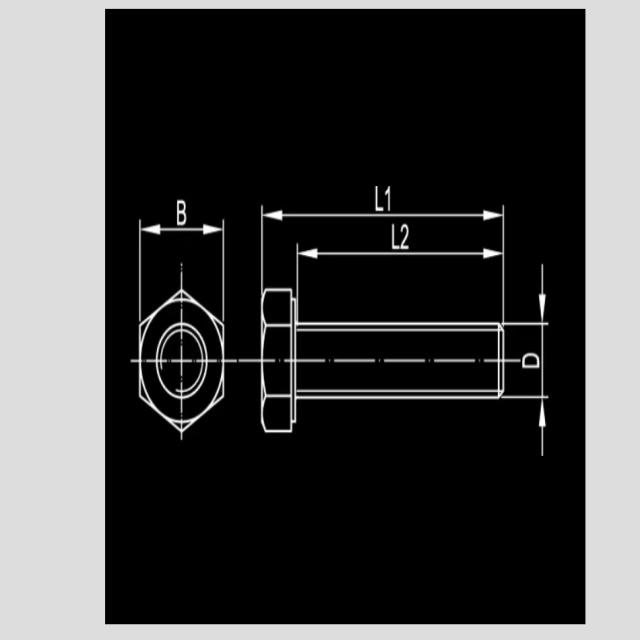marking_line: (299, 209, 507, 323), (259, 206, 506, 286), (295, 243, 504, 299), (504, 262, 551, 457), (138, 219, 225, 290), (503, 392, 551, 457), (504, 263, 549, 328)
